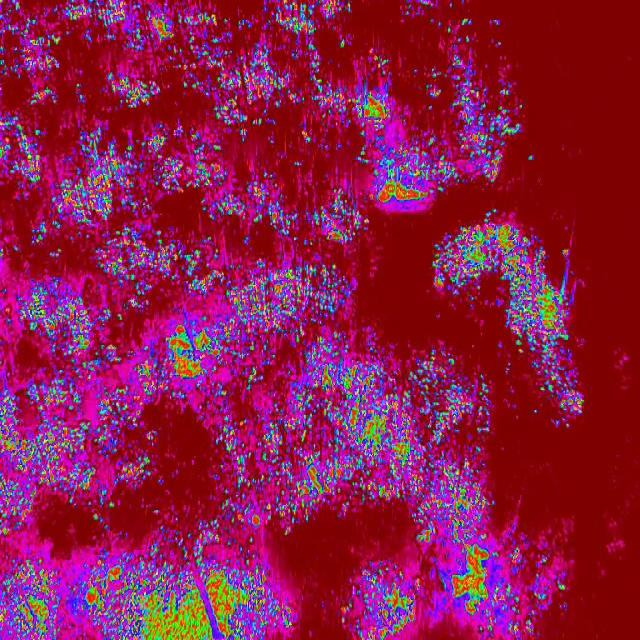fire: (0, 0, 291, 640), (290, 0, 523, 212), (381, 346, 504, 640), (292, 212, 380, 526), (435, 211, 584, 325), (496, 324, 586, 422), (505, 522, 572, 640), (346, 564, 381, 640)
